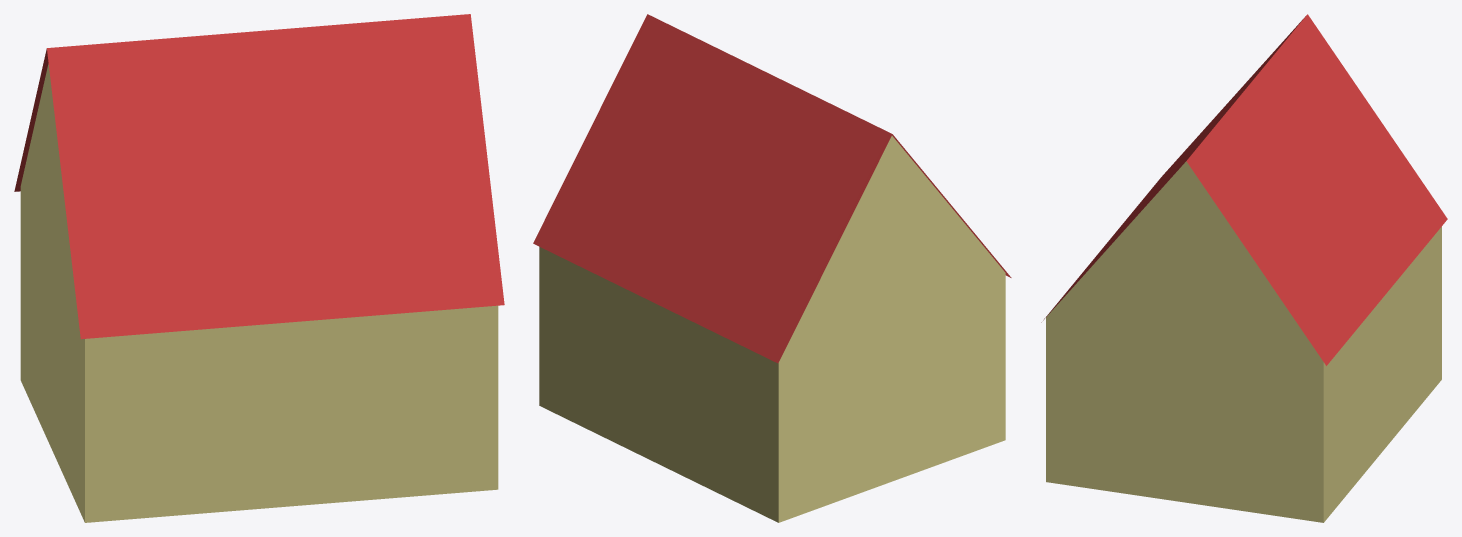
3 renders of one model, left to right at view 1: azimuth 30°, elevation 25°; view 2: azimuth 150°, elevation 25°; view 3: azimuth 270°, elevation 25°, orthographic. The views are drawn at different scales.
Size of the model in its own units: 24.88 by 22.65 by 21.07.
